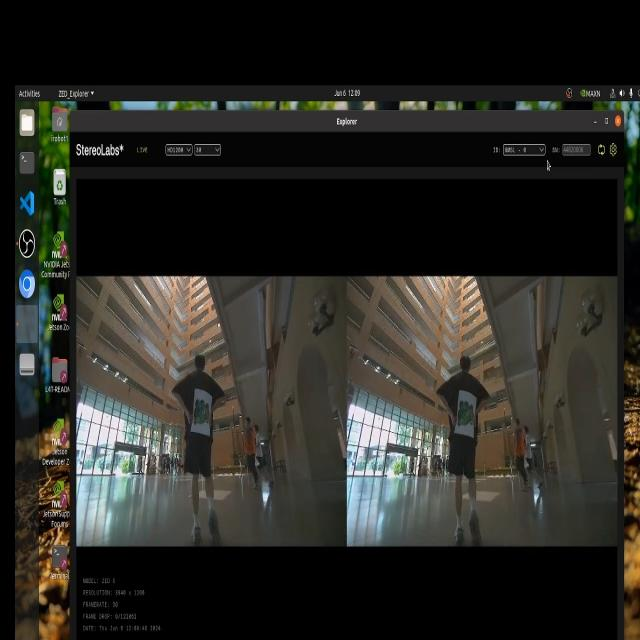green: (457, 401, 482, 436), (195, 398, 212, 430)
